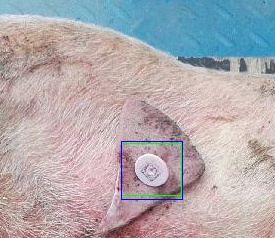text: (121, 143, 181, 195)
